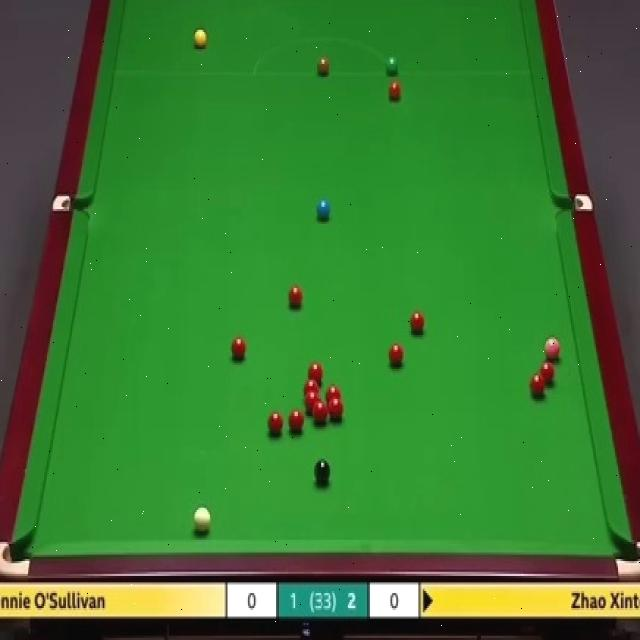black-ball: (314, 458, 331, 485)
blue-ball: (316, 198, 330, 218)
brown-ball: (316, 58, 330, 75)
green-ball: (384, 56, 400, 74)
pink-ball: (543, 337, 563, 363)
red-ball: (312, 402, 328, 428), (530, 373, 545, 400), (328, 398, 346, 420), (230, 337, 247, 359), (288, 409, 304, 432), (268, 411, 284, 434), (387, 344, 403, 367), (538, 364, 556, 384), (290, 289, 306, 310), (304, 394, 318, 414), (411, 312, 424, 333), (326, 385, 341, 403), (388, 81, 401, 100), (310, 362, 321, 384), (304, 383, 318, 400)
white-ball: (192, 506, 213, 537)
yellow-ball: (193, 28, 207, 50)
